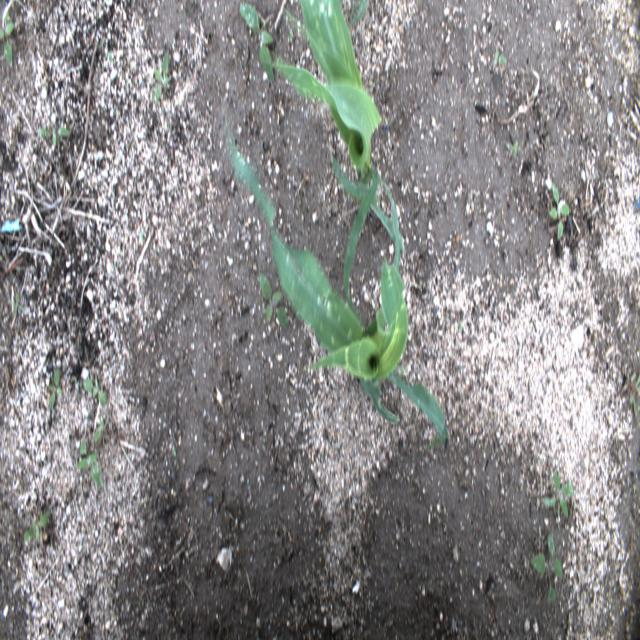crop: (222, 110, 448, 449), (273, 0, 404, 325), (347, 0, 369, 31)
weed: (240, 2, 274, 82), (530, 532, 562, 607), (257, 272, 289, 329), (543, 470, 573, 528), (75, 438, 104, 488), (550, 184, 569, 241), (82, 372, 109, 407), (0, 6, 15, 68), (23, 509, 51, 542), (153, 51, 171, 102), (47, 366, 64, 409), (38, 126, 70, 147), (629, 371, 639, 417), (505, 138, 522, 157), (11, 290, 23, 316), (94, 417, 105, 445), (493, 49, 507, 67), (289, 28, 292, 43), (632, 484, 636, 494), (458, 322, 462, 332)
